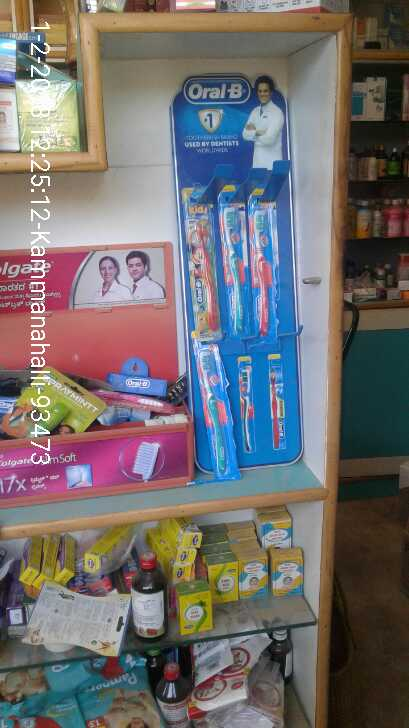oralb: (195, 345, 235, 478), (250, 209, 283, 334), (220, 202, 251, 333), (187, 198, 214, 341)
